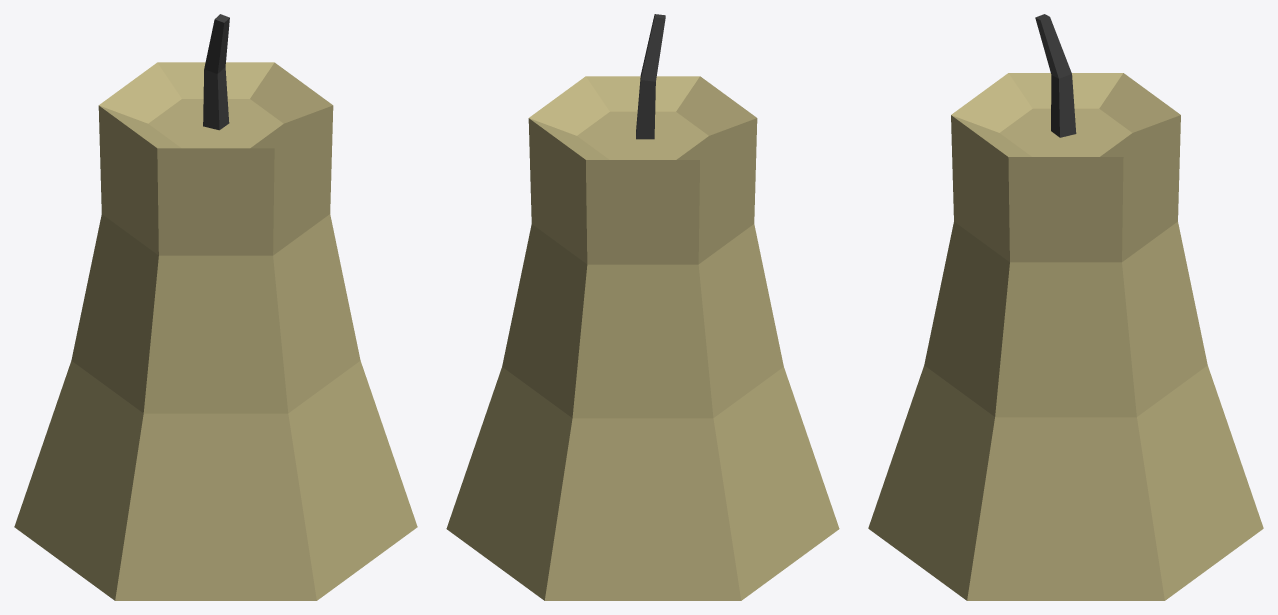
The model's file is candle_1.fbx.
The picture shows the model from 3 angles, left to right: view 1: azimuth 30°, elevation 25°; view 2: azimuth 150°, elevation 25°; view 3: azimuth 270°, elevation 25°; orthographic projection. The views are drawn at different scales.
Visible parts, largest first — view 1: candle_1; view 2: candle_1; view 3: candle_1.
Boxes of the visible parts, x1=… form: candle_1: x1=14, y1=14, x2=417, y2=600; candle_1: x1=446, y1=14, x2=839, y2=600; candle_1: x1=868, y1=14, x2=1263, y2=600.
Bounding box in the file's own units: 13.48 × 22.13 × 15.56.
